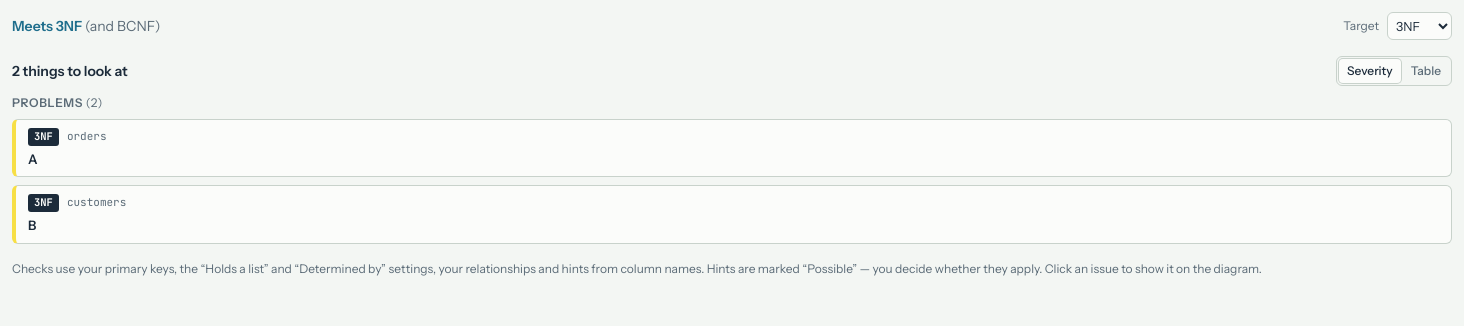
it: IssuesPanel › groups by table
This screenshot has width=1464, height=326.
Click the radio button labelled "Table": (1426, 71) top-left (1411, 63), bottom-right (1441, 78)
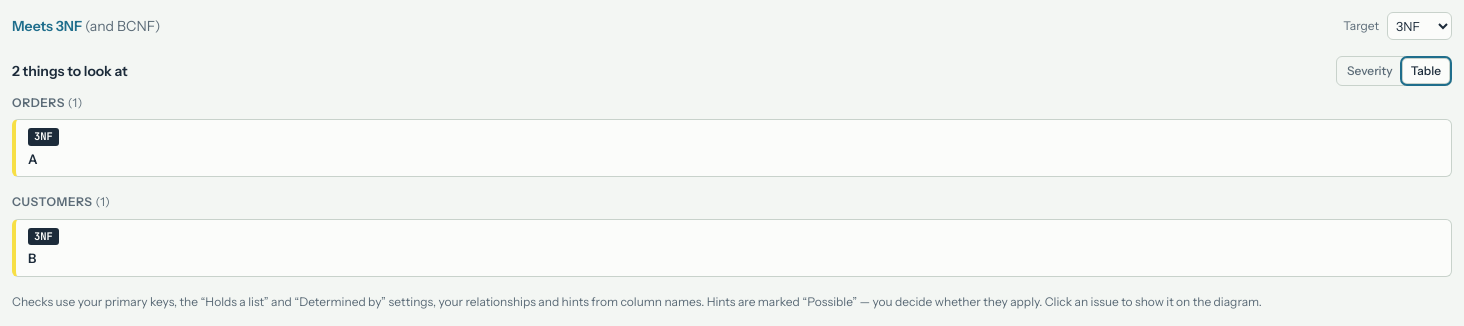
Expected: the element "orders" is shown, top-left (12, 94), bottom-right (1452, 178)
Expected: the element "customers" is shown, top-left (12, 194), bottom-right (1452, 277)
